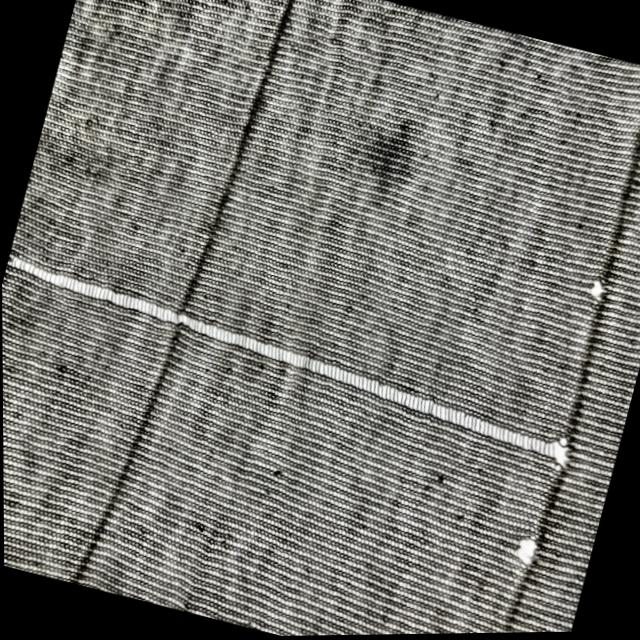Hole: (404, 338, 516, 424), (54, 495, 103, 540), (319, 561, 363, 608)
Stitch: (144, 0, 393, 591)
